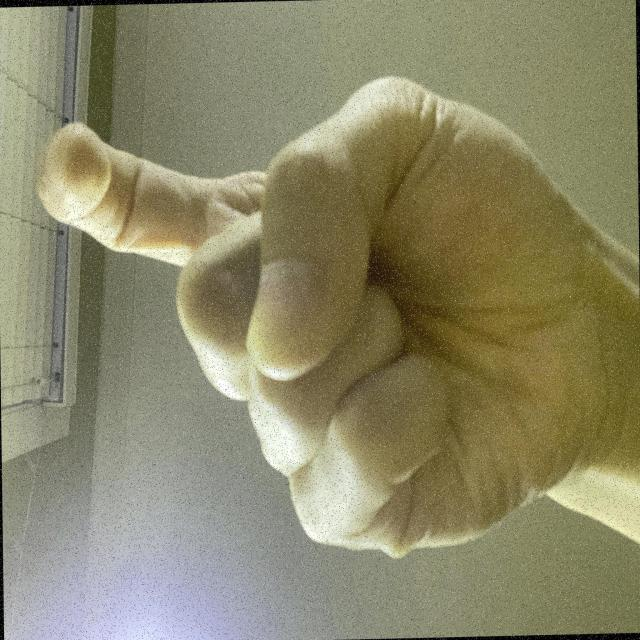X: (46, 37, 435, 640)
